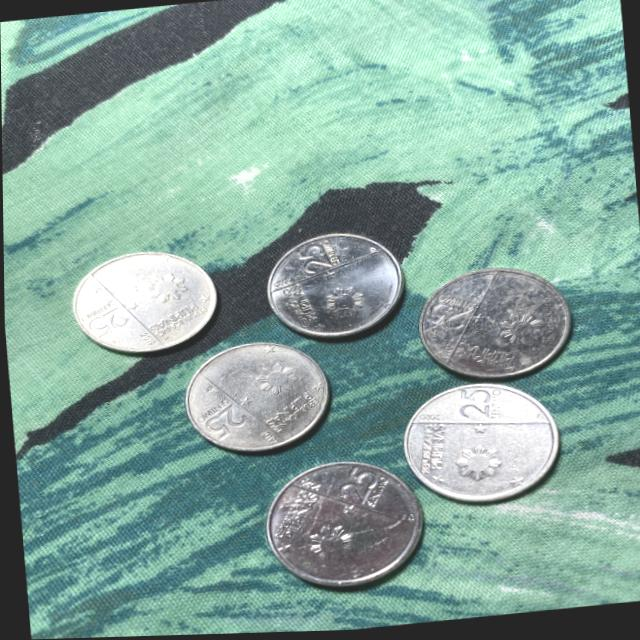25Cent_New_Front: (330, 467, 384, 509), (203, 405, 252, 441), (423, 303, 472, 337), (289, 243, 334, 277), (451, 390, 491, 428), (87, 307, 131, 341)
